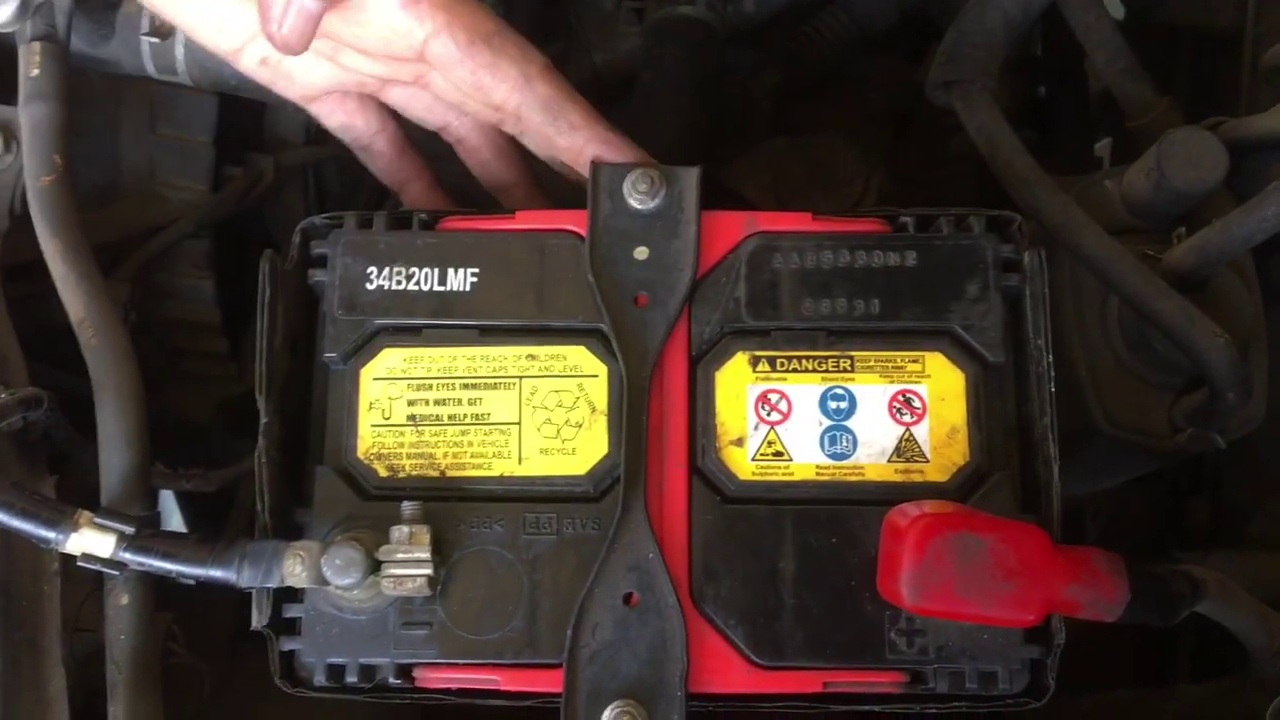battery: (268, 225, 1080, 706), (855, 482, 1146, 639)
neg_connected: (265, 502, 474, 626)
